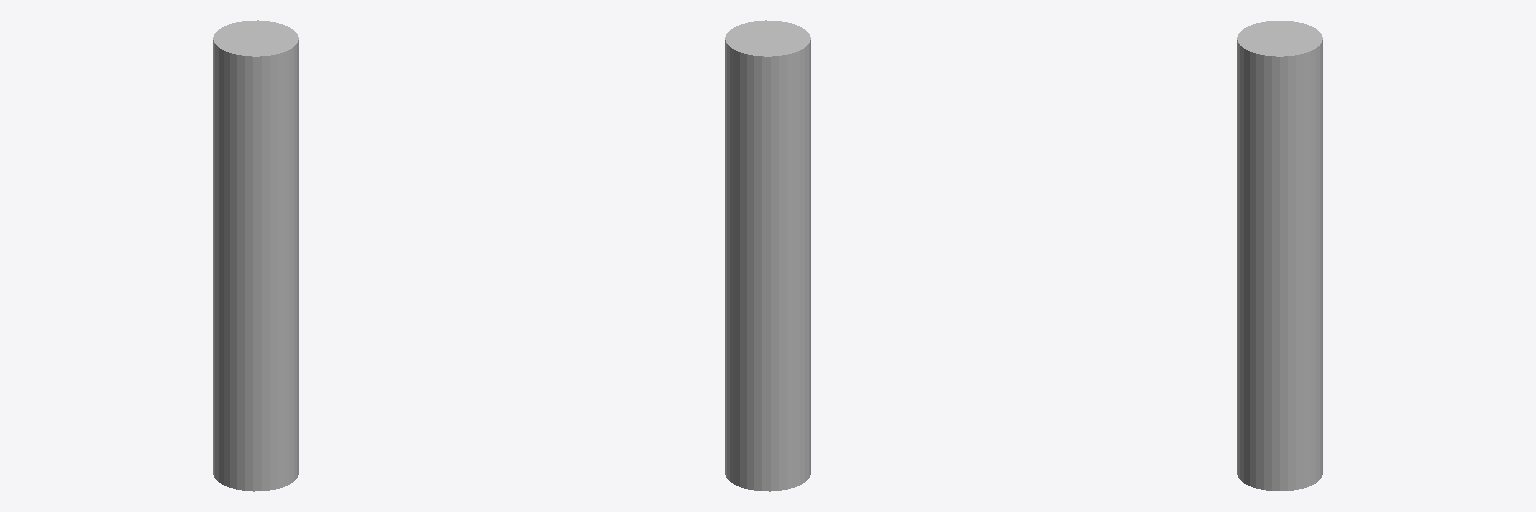
robot.urdf — reduced_workspace:
<?xml version="1.0"?>
<robot
  name="reduced_workspace">
  <link
    name="reduce_link">
    <visual>
      <origin
        xyz="0 0 0.65"
        rpy="0 0 0" />
      <geometry>
        <cylinder length="1.3" radius="0.116"/>
      </geometry>
      <material
        name="">
        <color
          rgba="0.8 0.8 0.8 0.2" />
      </material>
    </visual>
    <collision>
      <origin
        xyz="0 0 0.65"
        rpy="0 0 0" />
      <geometry>
        <cylinder length="1.3" radius="0.116"/>
      </geometry>
    </collision>
  </link>
</robot>

--- Facts derived from the render (not from the file) ---
3 views of the same robot in one strip: view 1: azimuth 30°, elevation 25°; view 2: azimuth 150°, elevation 25°; view 3: azimuth 270°, elevation 25° (orthographic).
Model reduced_workspace with 1 links and 0 joints (none), rooted at reduce_link, posed every joint at zero.
Visible links, largest first — view 1: reduce_link; view 2: reduce_link; view 3: reduce_link.
Link boxes in pixels (bbox=[...]): reduce_link: bbox=[213, 20, 298, 491]; reduce_link: bbox=[725, 20, 810, 491]; reduce_link: bbox=[1237, 21, 1322, 490].
Size in the robot's own frame: 0.232 by 0.232 by 1.3 metres.
Geometry: primitives only (box / cylinder / sphere), no mesh files.